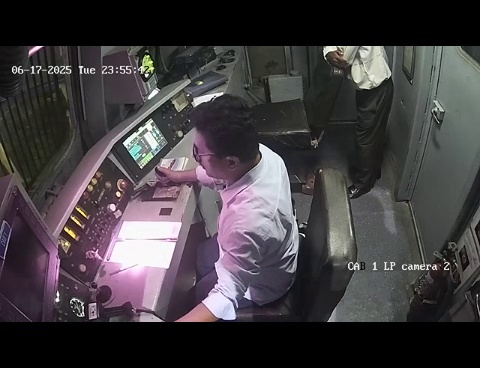horn_inactive: (82, 271, 126, 308)
